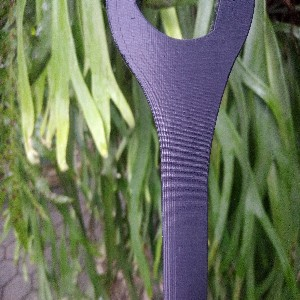spanner: (104, 1, 257, 300)
